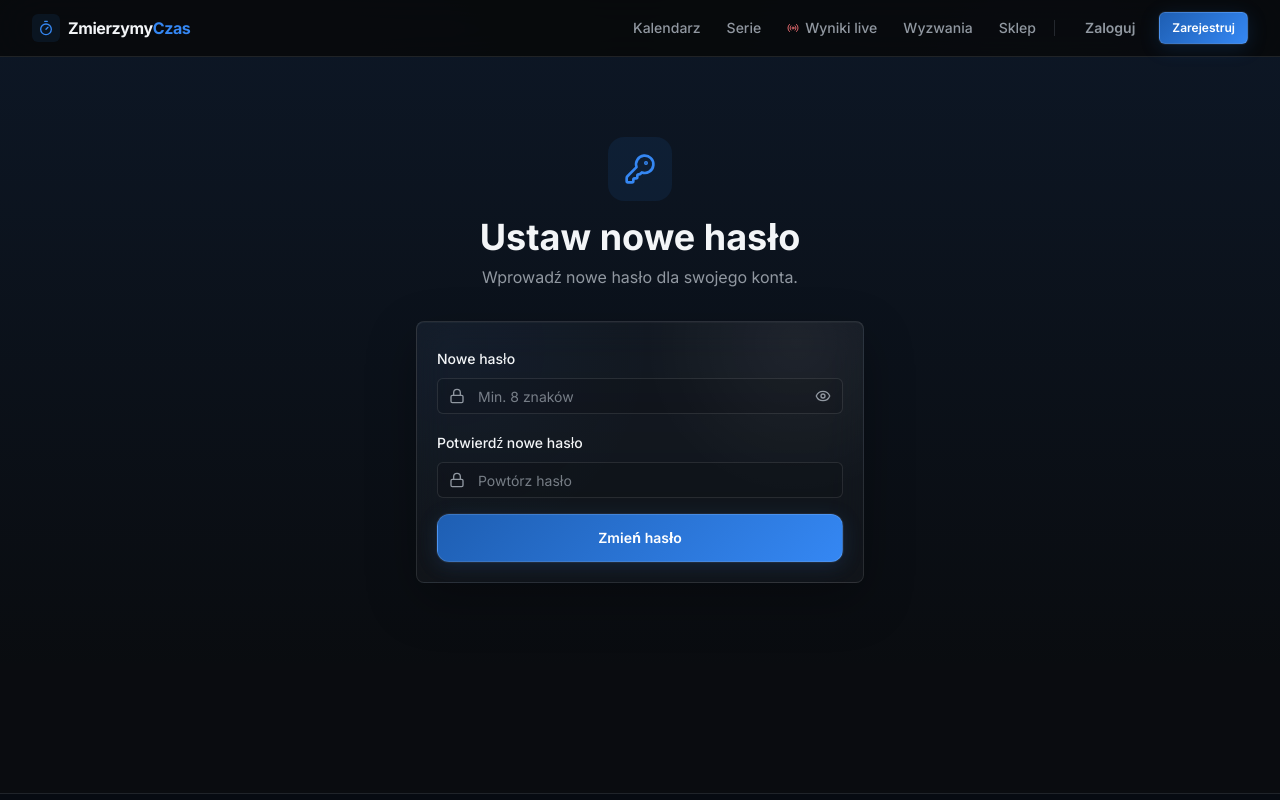
it: ResetPasswordPage › shows a server password error on the field and keeps the form
Type "NoweHaslo123" into the password field with placeholder "Min. 8 znaków" at (640, 396), box [437,378,843,414]
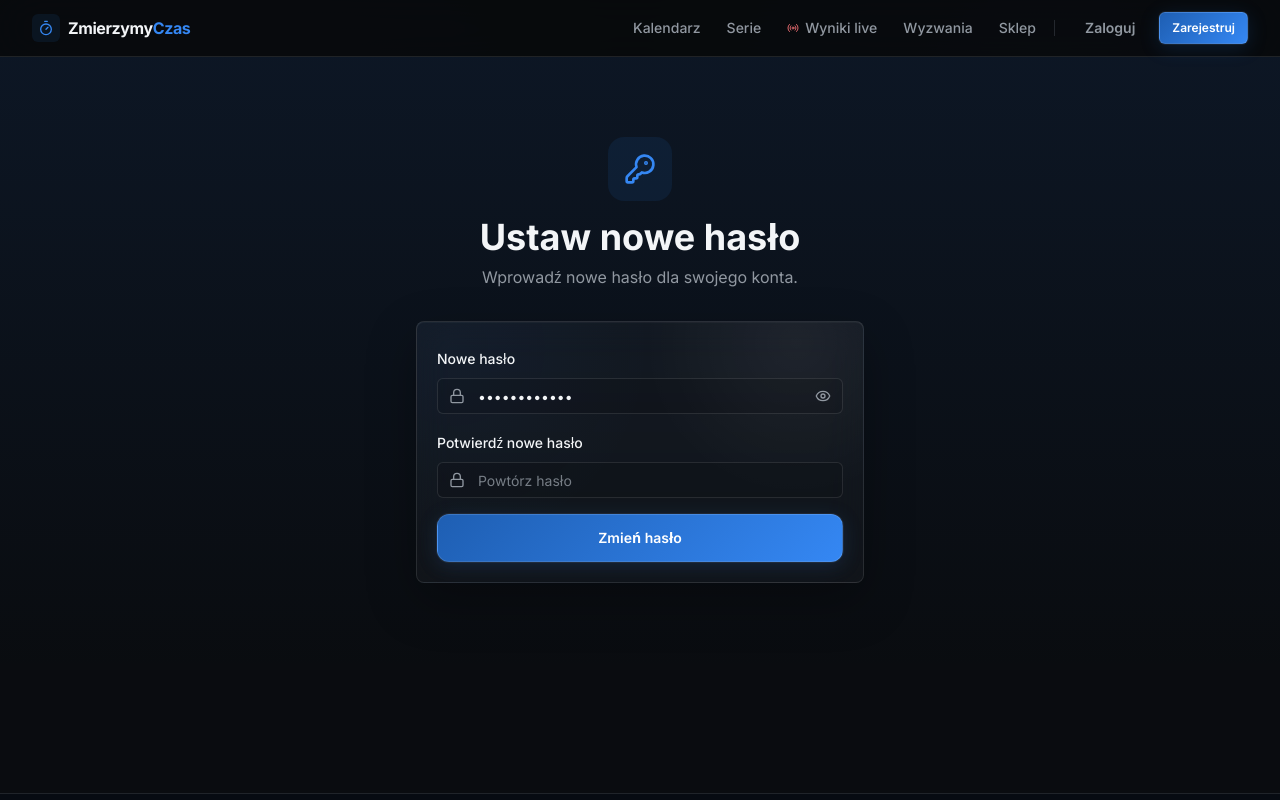
Type "NoweHaslo123" into the password field with placeholder "Powtórz hasło" at (640, 480), box [437,462,843,498]
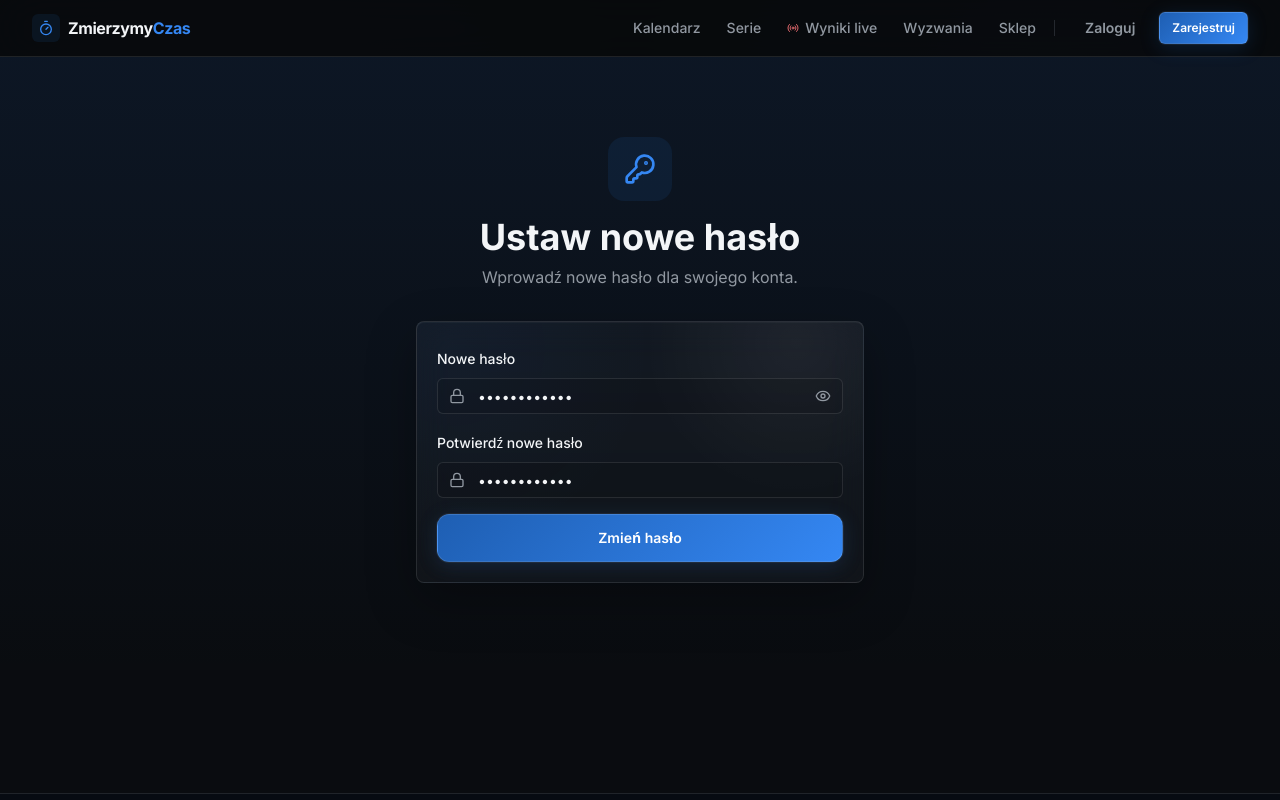
Click the button "Zmień hasło" at (640, 538), box [437,514,843,562]
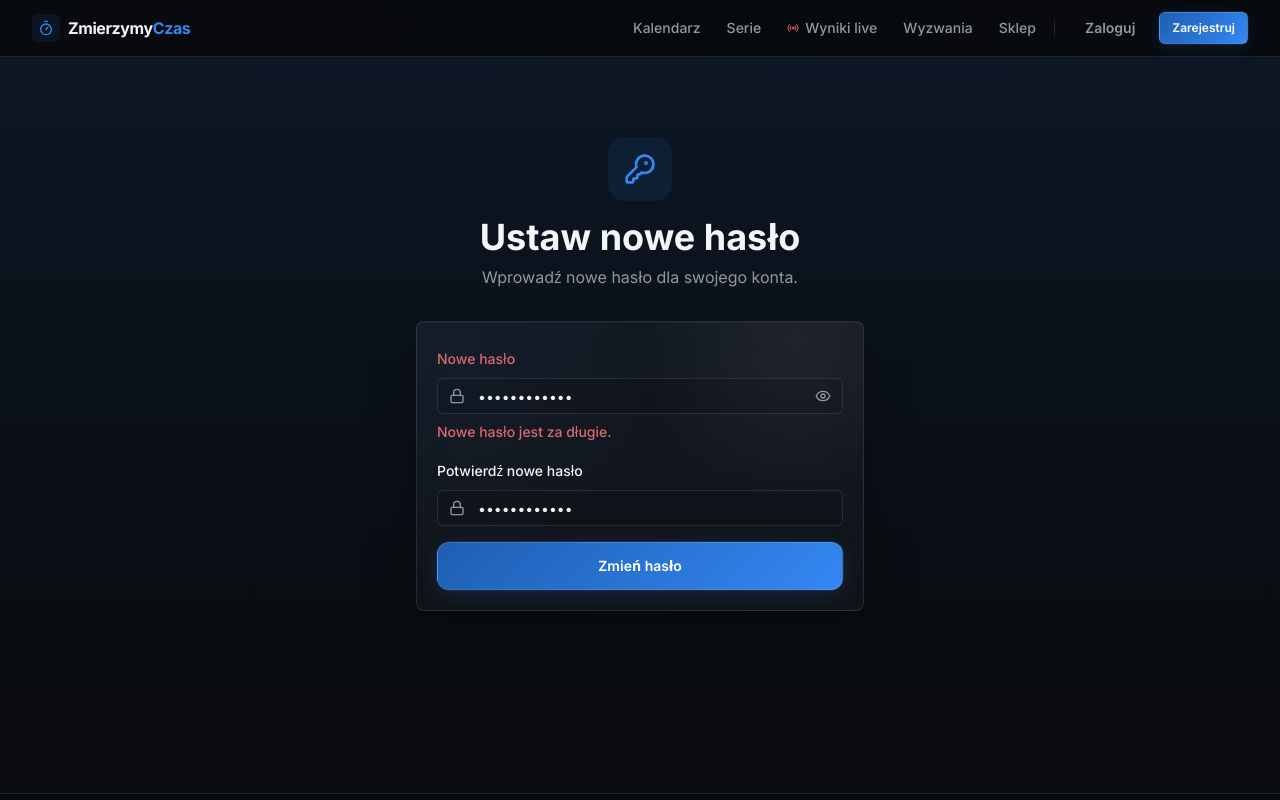
Expected: the text "Nowe hasło jest za długie." is shown, [437,423,612,440]
